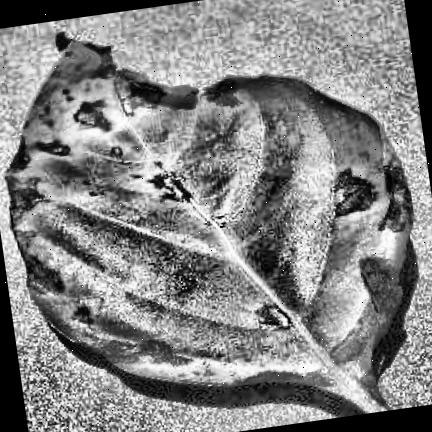leaf: (7, 33, 413, 411)
